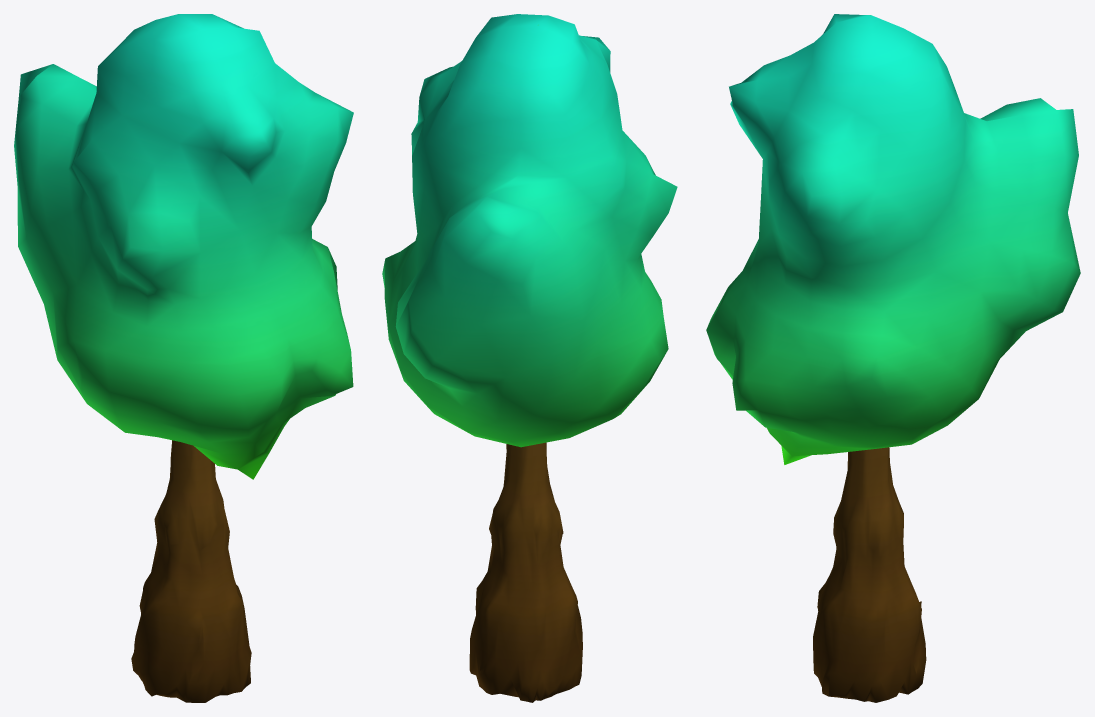
Rendered from tree_03.fbx.
3 renders of one model, left to right at view 1: azimuth 30°, elevation 25°; view 2: azimuth 150°, elevation 25°; view 3: azimuth 270°, elevation 25°, orthographic.
Parts seen in each view (by area): view 1: tree; view 2: tree; view 3: tree.
Part boxes in pixels (<box>): tree: <box>14,14,353,702</box>; tree: <box>382,14,677,702</box>; tree: <box>706,14,1080,702</box>.
Bounding box in the file's own units: 12.57 × 29.93 × 15.39.
1 material, 1 textured.
